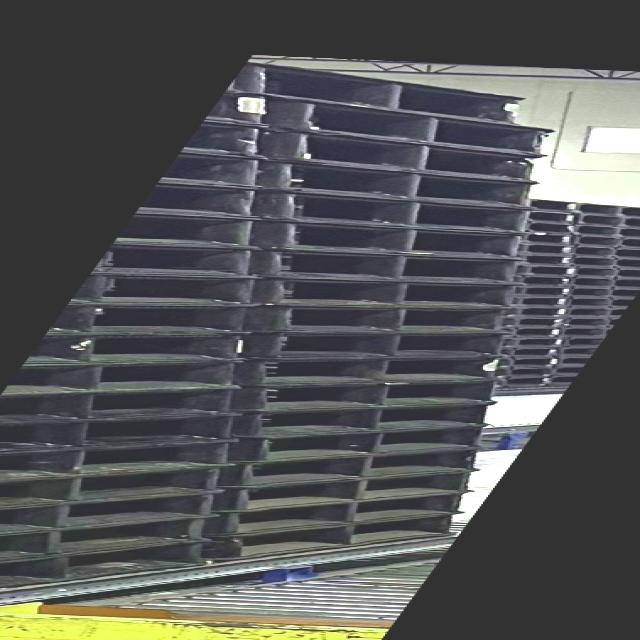igps: (221, 58, 535, 130), (274, 99, 559, 156), (195, 488, 487, 540), (201, 509, 470, 564), (278, 130, 552, 183), (282, 159, 543, 208), (230, 465, 482, 513), (276, 190, 542, 235), (0, 460, 243, 509), (0, 511, 227, 563), (0, 486, 235, 536), (0, 435, 250, 482), (0, 537, 217, 590), (0, 410, 248, 456), (0, 353, 257, 397), (252, 373, 503, 416), (246, 420, 499, 462), (0, 382, 251, 424), (243, 443, 487, 486), (274, 220, 538, 259), (250, 398, 504, 438), (251, 354, 528, 390), (270, 248, 534, 284), (22, 329, 263, 366), (268, 277, 533, 308), (46, 300, 270, 336), (262, 330, 526, 360), (269, 304, 521, 334), (69, 271, 287, 305), (85, 241, 268, 277), (107, 209, 271, 248), (120, 178, 270, 218), (163, 118, 276, 162), (155, 150, 275, 188), (572, 201, 640, 218), (569, 254, 640, 270), (572, 212, 640, 228), (569, 224, 640, 239), (569, 233, 640, 248), (570, 244, 640, 258), (565, 275, 640, 288), (564, 286, 640, 298), (563, 296, 639, 308), (569, 266, 640, 278), (558, 316, 622, 328), (563, 307, 628, 318), (562, 326, 614, 337), (554, 346, 600, 358), (556, 337, 610, 347), (548, 365, 586, 377), (544, 375, 580, 387), (555, 356, 592, 367)
